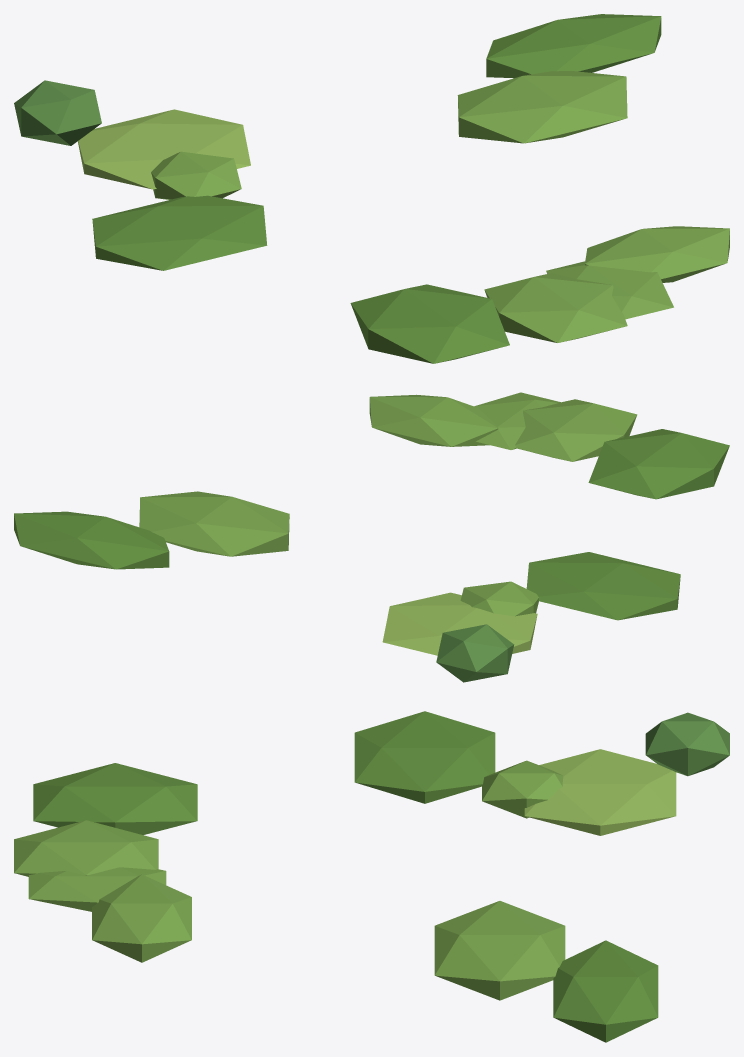
The model's file is Kir_cimen_sade_1_Hafif.fbx.
3 renders of one model, top to bottom at view 1: azimuth 30°, elevation 25°; view 2: azimuth 150°, elevation 25°; view 3: azimuth 270°, elevation 25°, orthographic. The views are drawn at different scales.
Parts seen in each view (by area): view 1: Kir_cimen_sade_1_Hafif; view 2: Kir_cimen_sade_1_Hafif; view 3: Kir_cimen_sade_1_Hafif.
Part boxes in pixels (x1,y1,x2,y2): Kir_cimen_sade_1_Hafif: [14, 14, 729, 363]; Kir_cimen_sade_1_Hafif: [14, 392, 729, 682]; Kir_cimen_sade_1_Hafif: [14, 711, 729, 1042].
Size of the model in its own units: 20.12 by 1.71 by 19.22.
